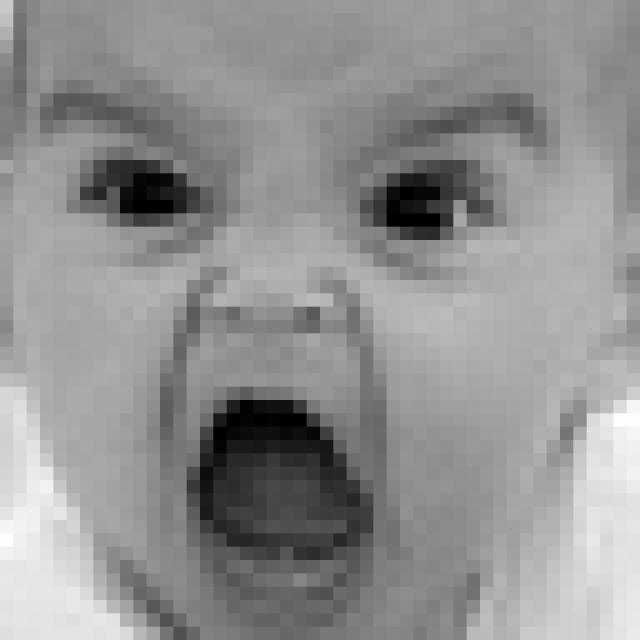angry: (17, 64, 560, 640)
